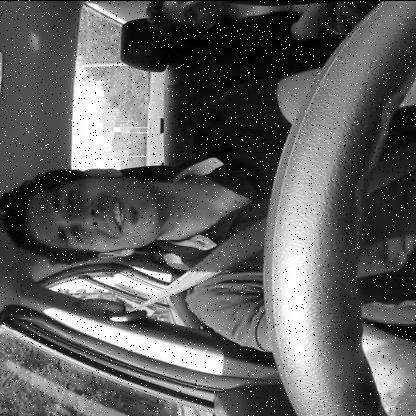seatbelt: (0, 131, 416, 327)
